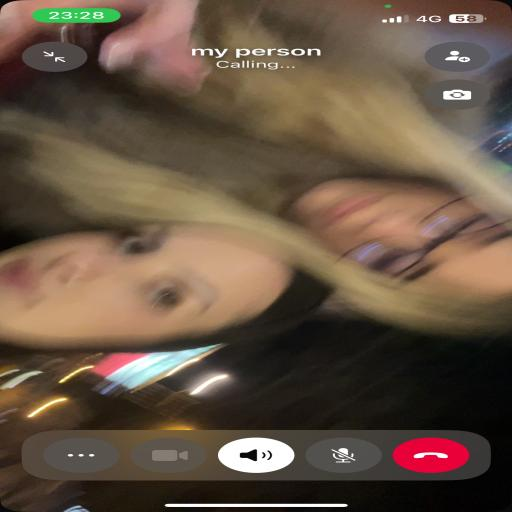marija: (6, 230, 310, 344)
